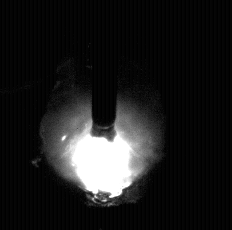arame: (91, 0, 118, 142)
poca: (40, 0, 164, 230)
